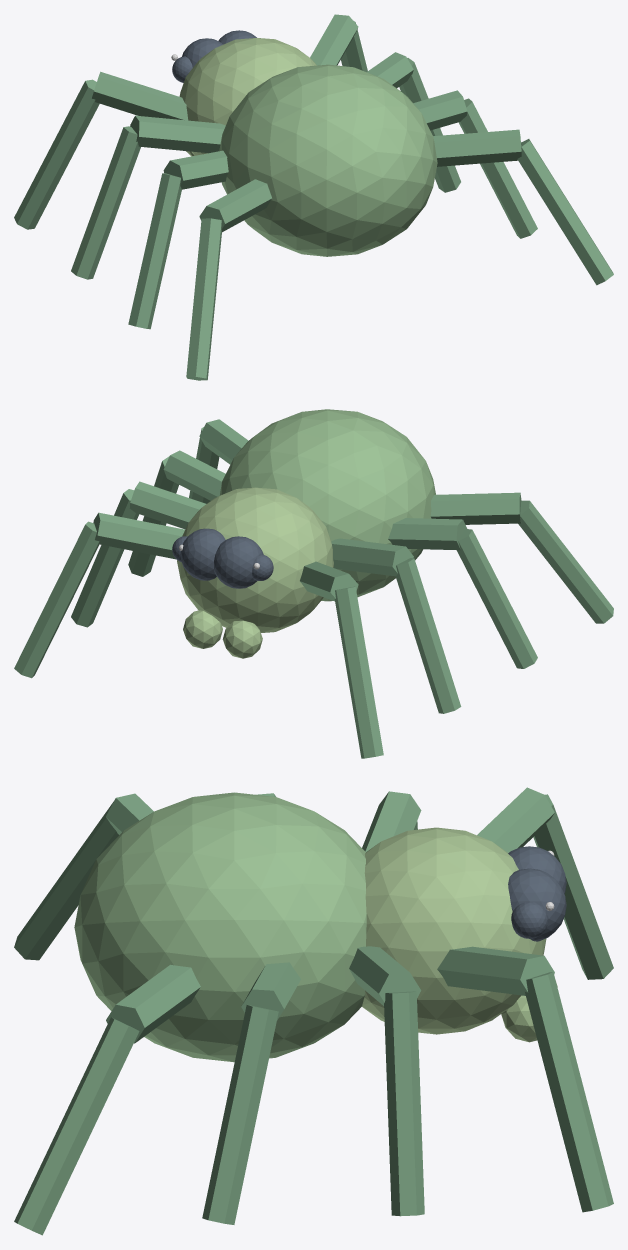
Rendered from spider_worker_green.glb.
3 renders of one model, top to bottom at view 1: azimuth 30°, elevation 25°; view 2: azimuth 150°, elevation 25°; view 3: azimuth 270°, elevation 25°, orthographic. The views are drawn at different scales.
Visible parts, largest first — view 1: Abdomen, Cephalothorax, Leg_-1_0_B, Leg_-1_1_B, Leg_-1_2_B, Leg_-1_3_B, Leg_1_3_B, Leg_-1_1_A, Leg_-1_0_A, Leg_1_3_A, Leg_1_2_B, Leg_-1_3_A (+7 smaller); view 2: Abdomen, Cephalothorax, Leg_-1_0_B, Leg_-1_1_B, Leg_1_0_B, Leg_-1_2_B, Leg_-1_3_B, Leg_1_0_A, Leg_-1_3_A, Leg_1_1_B, Leg_-1_1_A, Leg_-1_2_A (+10 smaller); view 3: Abdomen, Cephalothorax, Leg_1_0_B, Leg_1_1_B, Leg_1_3_B, Leg_1_2_B, Leg_-1_3_B, Leg_-1_0_B, Leg_1_0_A, Leg_1_3_A, Leg_-1_0_A, Leg_1_1_A (+7 smaller).
Part boxes in pixels (x1,y1,x2,y2): Abdomen: [219, 64, 437, 256]; Cephalothorax: [179, 38, 316, 155]; Leg_-1_0_B: [14, 79, 99, 229]; Leg_-1_1_B: [71, 126, 140, 279]; Leg_-1_2_B: [128, 173, 181, 329]; Leg_-1_3_B: [186, 218, 221, 380]; Leg_1_3_B: [517, 139, 613, 285]; Leg_-1_1_A: [130, 115, 225, 153]; Leg_-1_0_A: [92, 71, 188, 120]; Leg_1_3_A: [433, 129, 521, 166]; Leg_1_2_B: [458, 98, 537, 238]; Leg_-1_3_A: [199, 179, 271, 232]; Abdomen: [220, 409, 435, 601]; Cephalothorax: [177, 487, 333, 632]; Leg_-1_0_B: [334, 586, 383, 758]; Leg_-1_1_B: [395, 558, 461, 713]; Leg_1_0_B: [14, 521, 99, 678]; Leg_-1_2_B: [457, 529, 537, 668]; Leg_-1_3_B: [518, 500, 613, 623]; Leg_1_0_A: [93, 512, 184, 559]; Leg_-1_3_A: [430, 492, 521, 524]; Leg_1_1_B: [71, 489, 139, 627]; Leg_-1_1_A: [331, 538, 413, 576]; Leg_-1_2_A: [388, 518, 467, 550]; Abdomen: [74, 792, 366, 1062]; Cephalothorax: [362, 827, 546, 1034]; Leg_1_0_B: [525, 972, 613, 1212]; Leg_1_1_B: [384, 991, 424, 1216]; Leg_1_3_B: [14, 1017, 139, 1235]; Leg_1_2_B: [202, 1005, 278, 1224]; Leg_-1_3_B: [14, 801, 118, 960]; Leg_-1_0_B: [533, 794, 613, 979]; Leg_1_0_A: [437, 946, 554, 995]; Leg_1_3_A: [106, 964, 200, 1043]; Leg_-1_0_A: [477, 787, 554, 852]; Leg_1_1_A: [349, 946, 421, 1005].
Size of the model in its own units: 1.72 by 0.7869 by 1.48.
